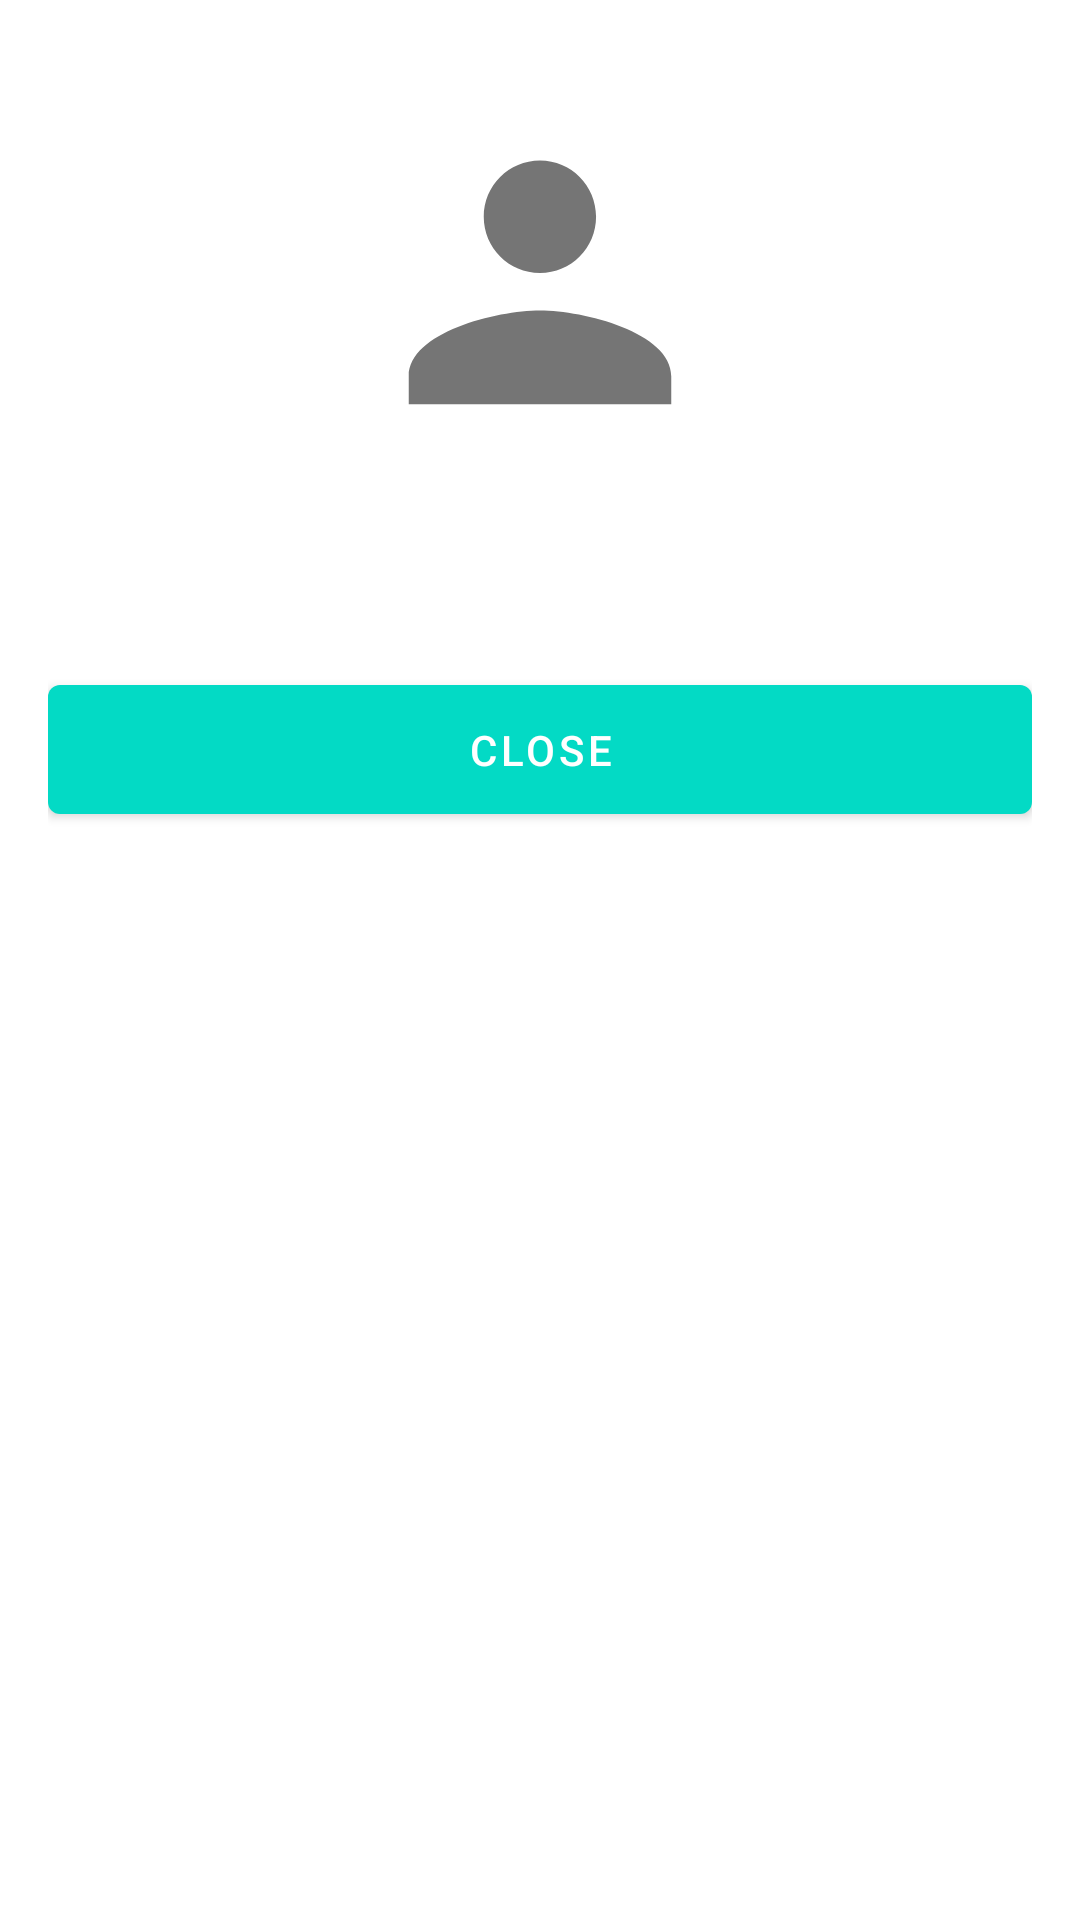

Locate icon controls on the screen. Image size 1080px×1920px, boxes as [left=x1, top=y1, right=x2, bottom=y2].
person: [left=408, top=160, right=672, bottom=405]
